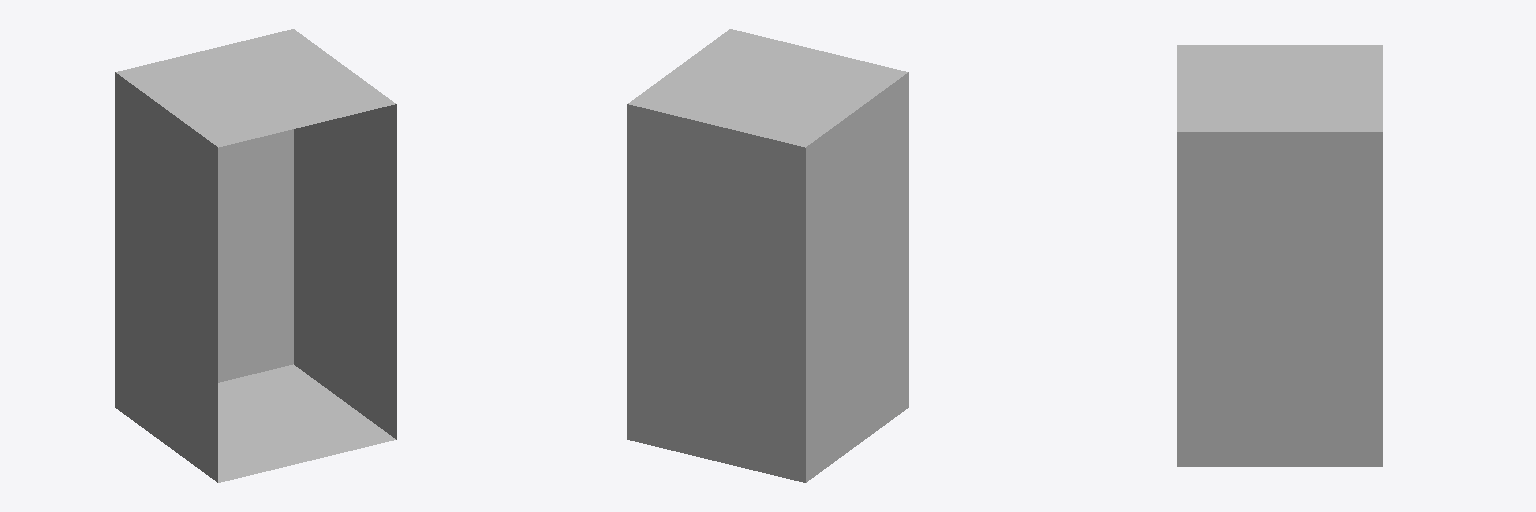
The model's file is original-15.obj.
3 renders of one model, left to right at view 1: azimuth 30°, elevation 25°; view 2: azimuth 150°, elevation 25°; view 3: azimuth 270°, elevation 25°, orthographic.
Visible parts, largest first — view 1: #ID127; view 2: #ID127; view 3: #ID127.
Part boxes in pixels (x1,y1,x2,y2): #ID127: (115,29,396,482); #ID127: (627,29,908,482); #ID127: (1177,45,1382,466).
Bounding box in the file's own units: 0.0593 × 0.1068 × 0.0593.